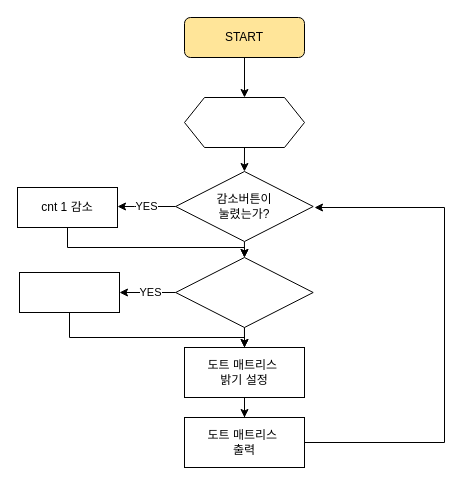
The diagram is 470 pixels wide and 485 high, and some of its shapes have lost their labels. Each missing label, with the centre of its shape:
cnt 1 증가: the point at 69,292
int cnt = 0;: the point at 244,122
증가버튼이 눌렸는가?: the point at 244,292
